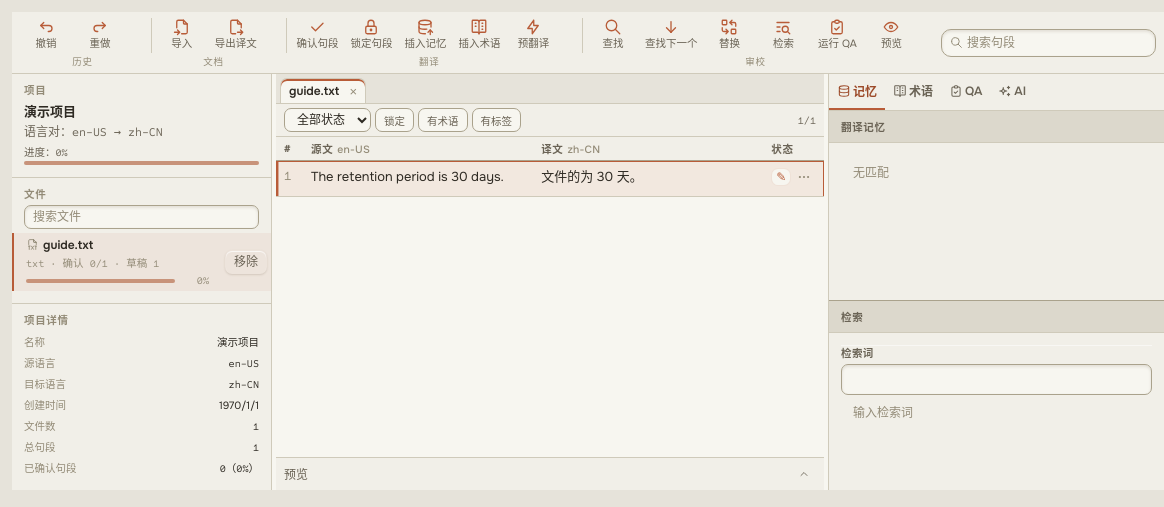
Test case: WorkbenchView term insertion › inserts a dock term at the grid editor caret without saving
Expected: the text box named "句段 1 译文" holds "文件的为 30 天。", left=541, top=167, right=755, bottom=186
What coordinates should you click on to do the following:
click the button "术语"
I would click on:
 (913, 92)
Its box is left=885, top=74, right=941, bottom=110.
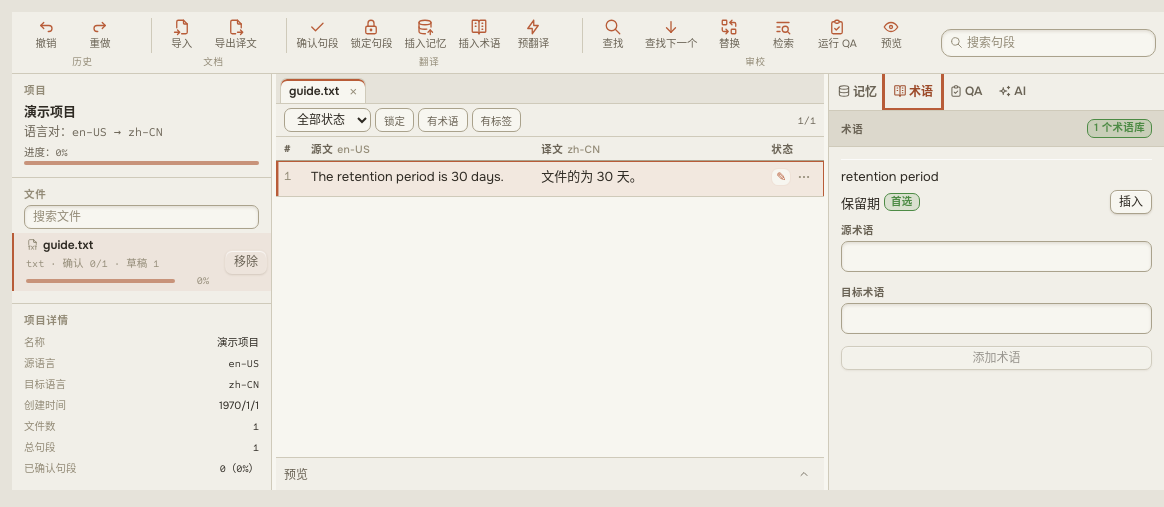
What coordinates should you click on to do the following:
click the button "插入"
I would click on:
 (1131, 202)
Its box is left=1110, top=190, right=1152, bottom=214.
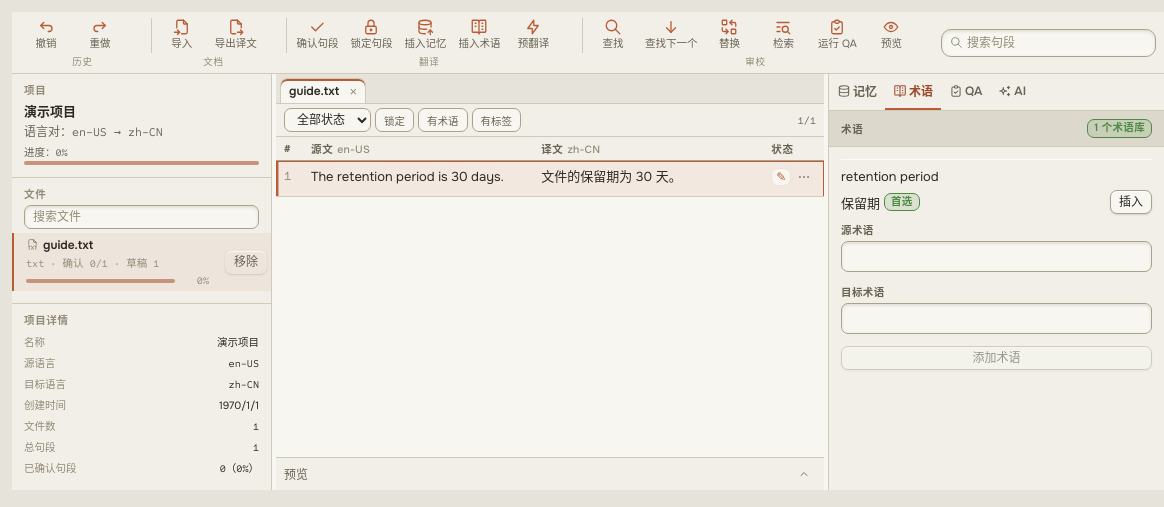
Now the text box named "句段 1 译文" holds "文件的保留期为 30 天。", box left=541, top=167, right=755, bottom=186
